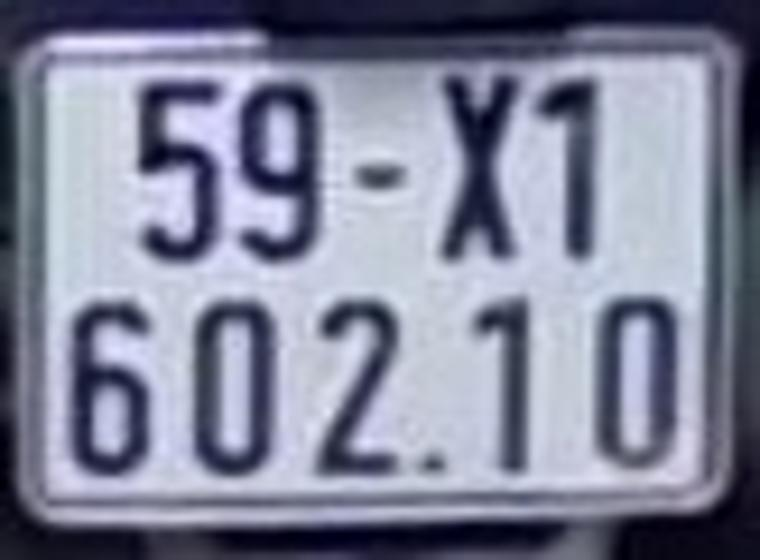-: (357, 161, 405, 187)
0: (595, 291, 677, 468), (195, 302, 276, 475)
1: (481, 299, 533, 472), (545, 75, 593, 257)
2: (317, 299, 397, 471)
5: (137, 84, 217, 259)
6: (73, 307, 154, 472)
9: (240, 84, 322, 265)
X: (439, 72, 518, 263)
